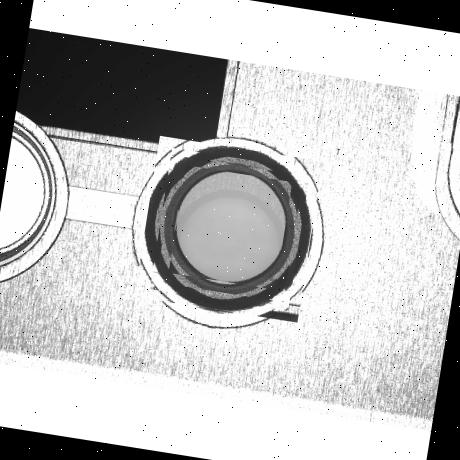Hole: (135, 136, 324, 324)
Hole2: (149, 148, 311, 312)
Hole3: (156, 155, 304, 303)
Hole4: (168, 166, 293, 291)
